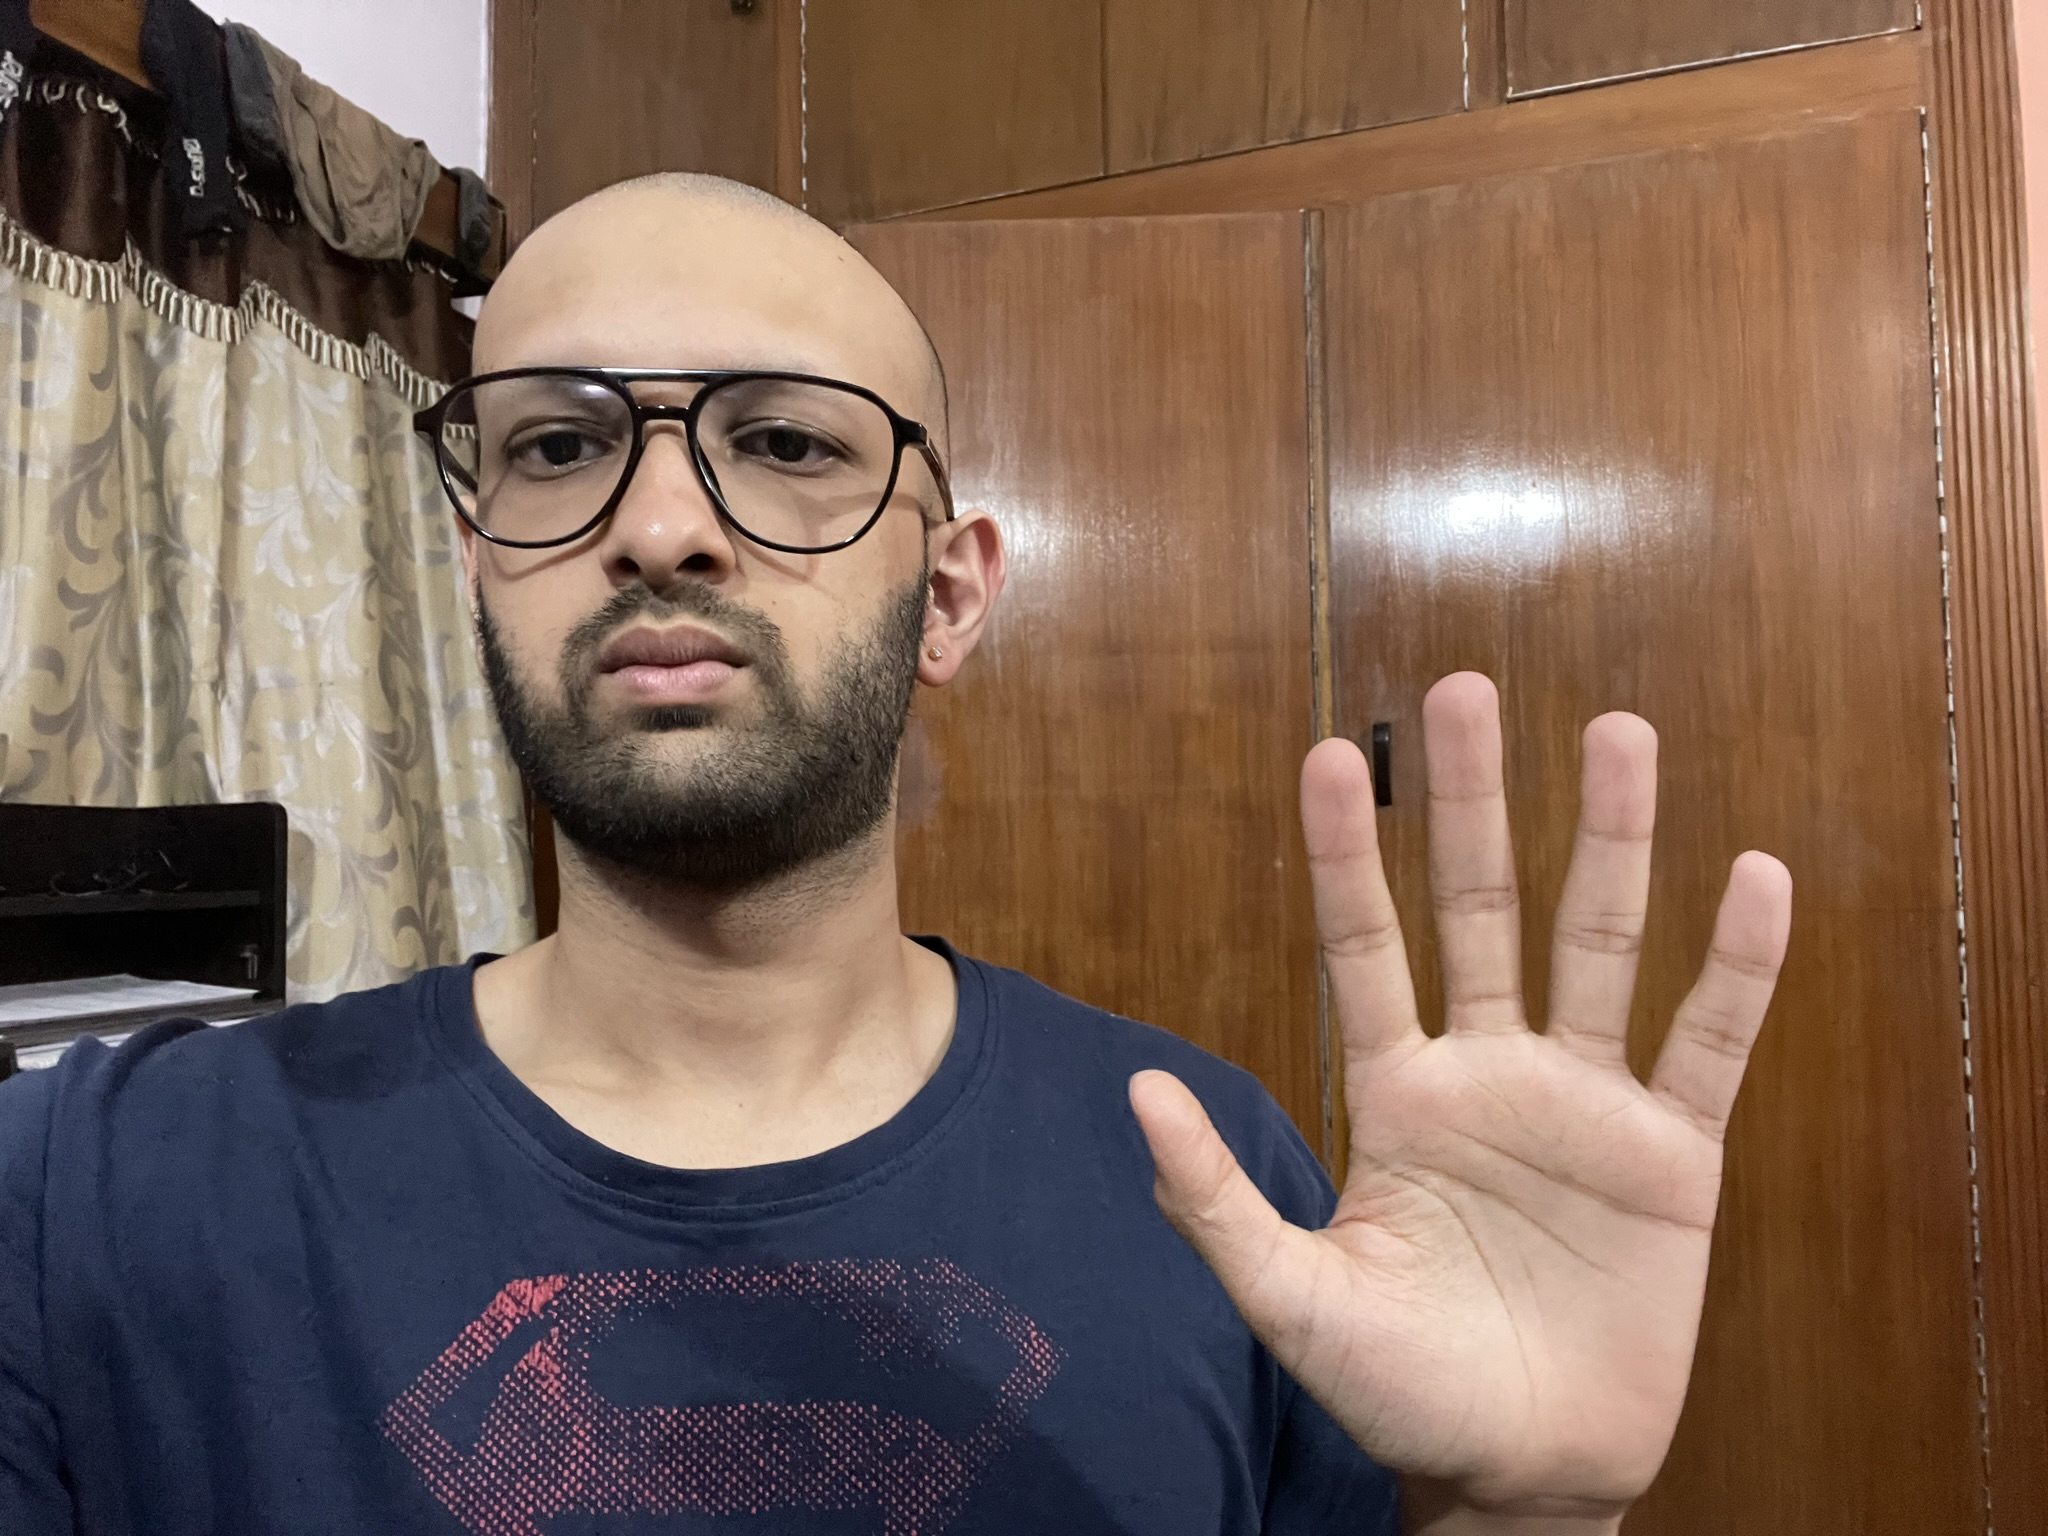Hello: (1122, 658, 1798, 1518)
